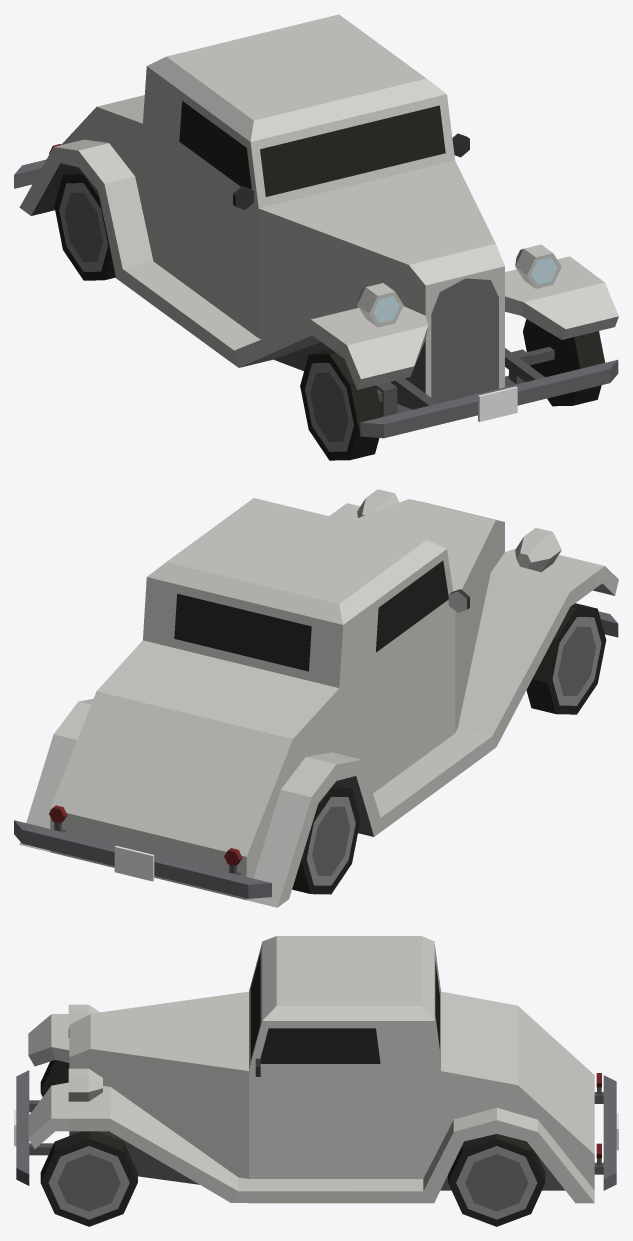
The model's file is Veh_Retro_Car_02_White.glb.
The picture shows the model from 3 angles, top to bottom: view 1: azimuth 30°, elevation 25°; view 2: azimuth 150°, elevation 25°; view 3: azimuth 270°, elevation 25°; orthographic projection. The views are drawn at different scales.
Visible parts, largest first — view 1: Retro_Car_02_White, Wheel_FR, Wheel_RR, Wheel_FL; view 2: Retro_Car_02_White, Wheel_FR, Wheel_RR; view 3: Retro_Car_02_White, Wheel_FL, Wheel_RL, Wheel_FR.
Part boxes in pixels (x1,y1,x2,y2): Retro_Car_02_White: (14,14,618,438); Wheel_FR: (300,349,382,460); Wheel_RR: (54,170,115,280); Wheel_FL: (523,319,604,406); Retro_Car_02_White: (14,489,618,907); Wheel_FR: (526,603,606,714); Wheel_RR: (292,784,360,894); Retro_Car_02_White: (14,936,618,1203); Wheel_FL: (40,1131,137,1226); Wheel_RL: (448,1134,545,1226); Wheel_FR: (40,1060,69,1096).
Bounding box in the file's own units: 0.9825 × 0.8995 × 2.4.
Materials: 1 (1 with a texture image).
